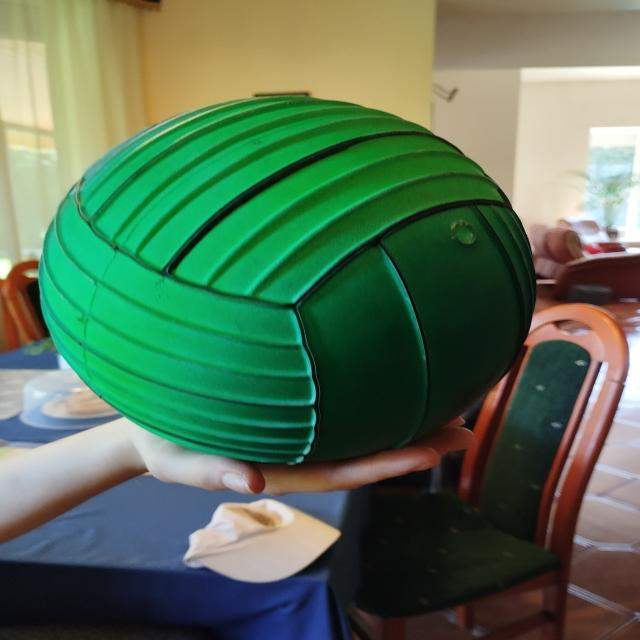zielona: (38, 94, 536, 464)
